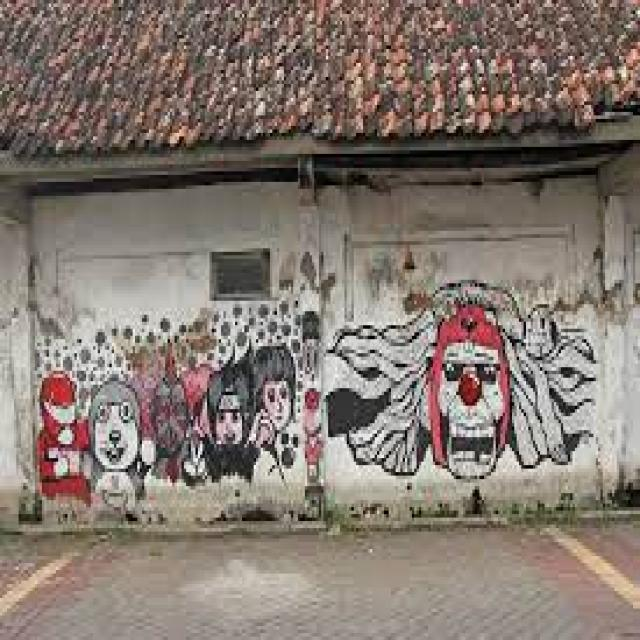-: (326, 276, 597, 486), (32, 311, 320, 496)
